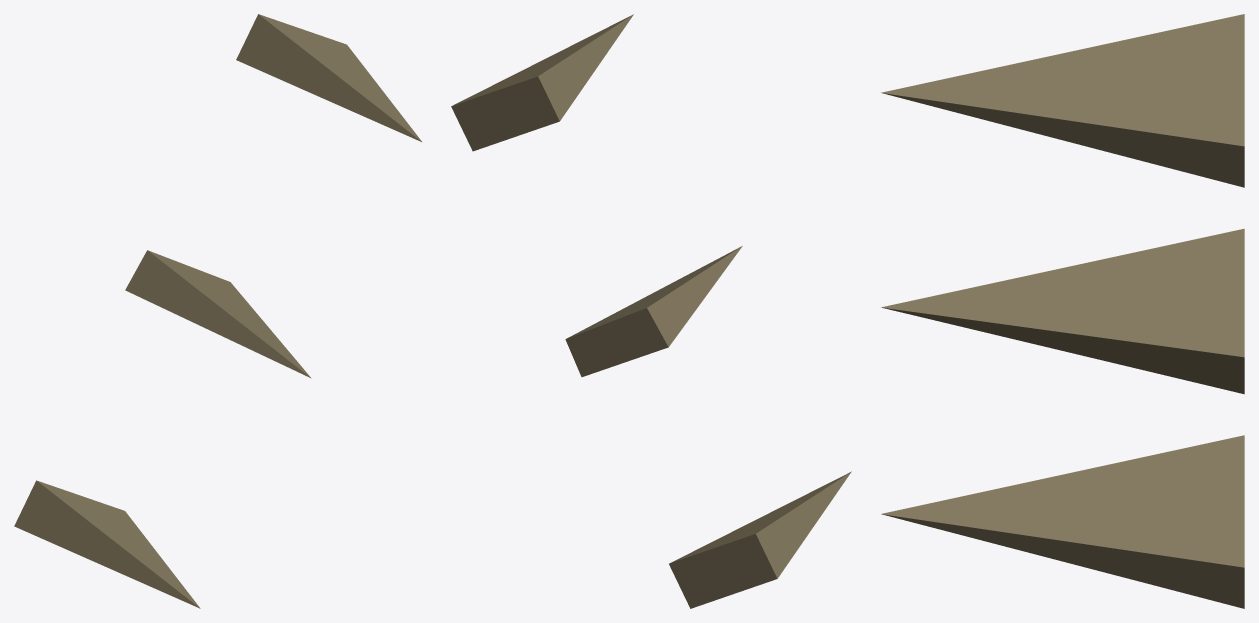
File: model_loc_832_1.obj
3 views of the same model, side by side, from view 1: azimuth 30°, elevation 25°; view 2: azimuth 150°, elevation 25°; view 3: azimuth 270°, elevation 25° (orthographic). The views are drawn at different scales.
Visible parts, largest first — view 1: 1528; view 2: 1528; view 3: 1528.
Part boxes in pixels (box(x1,y1,x2,y2)): 1528: box(14, 14, 421, 608); 1528: box(451, 14, 851, 608); 1528: box(881, 14, 1244, 608).
Bounding box in the file's own units: 60 × 87 × 41.
